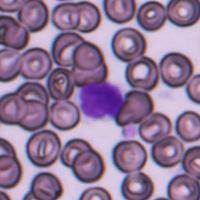M: (77, 80, 126, 120)
